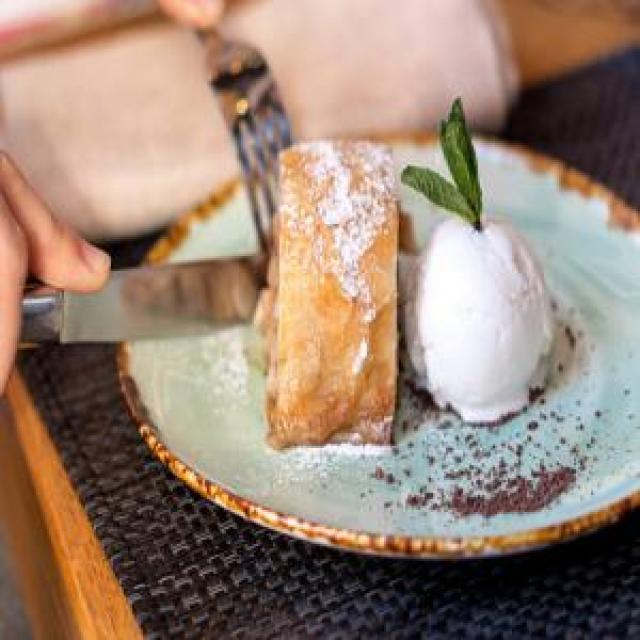knife: (0, 243, 437, 350)
